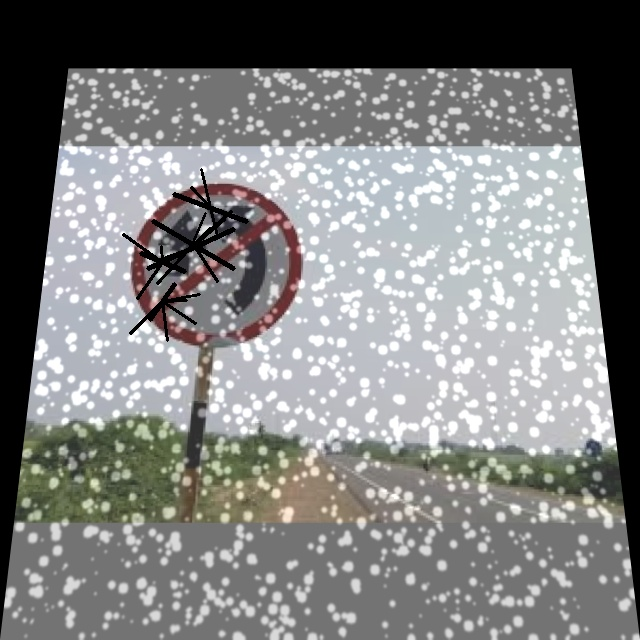Overtaking_Prohibited: (135, 185, 297, 342)
